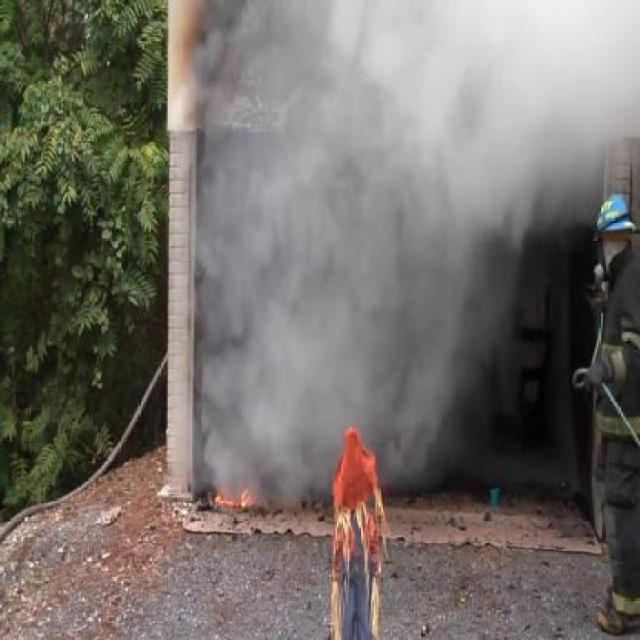smoke: (149, 23, 514, 500)
